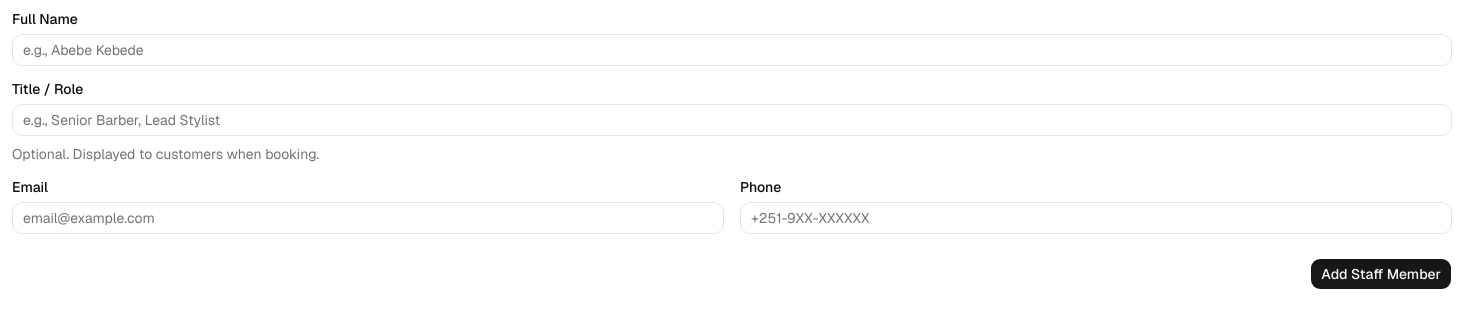
StaffForm — Create mode › shows validation error when name is only 1 character
The width and height of the screenshot is (1464, 334).
Step 1. Type "A" into the field with placeholder "e.g., Abebe Kebede" → (732, 50), box [12, 34, 1452, 66]
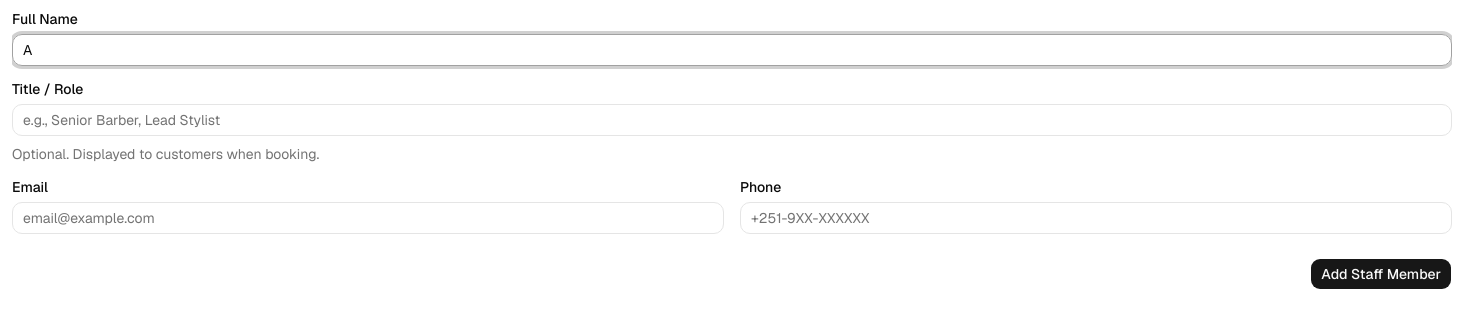
Step 2. Click the button "Add Staff Member" → (1381, 274), box [1310, 258, 1452, 290]
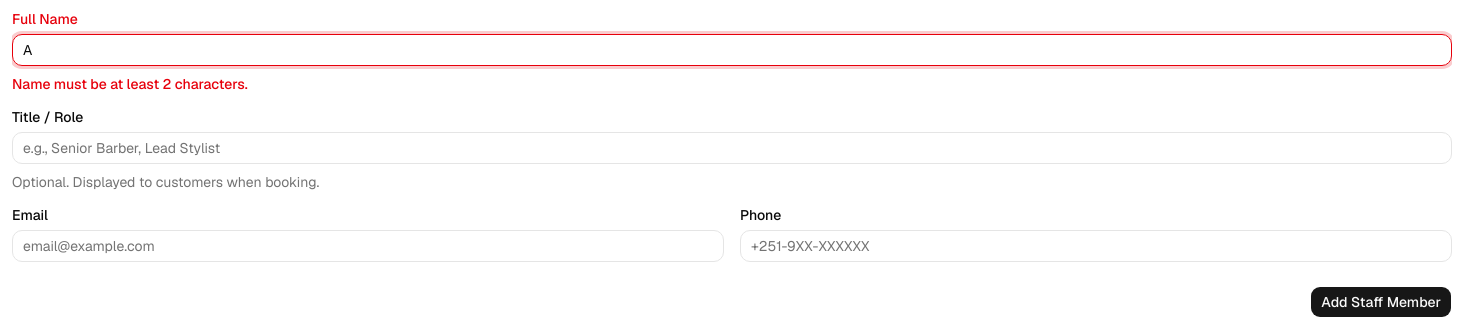
Expected: the text "Name must be at least 2 characters." is shown, [12, 75, 248, 93]
